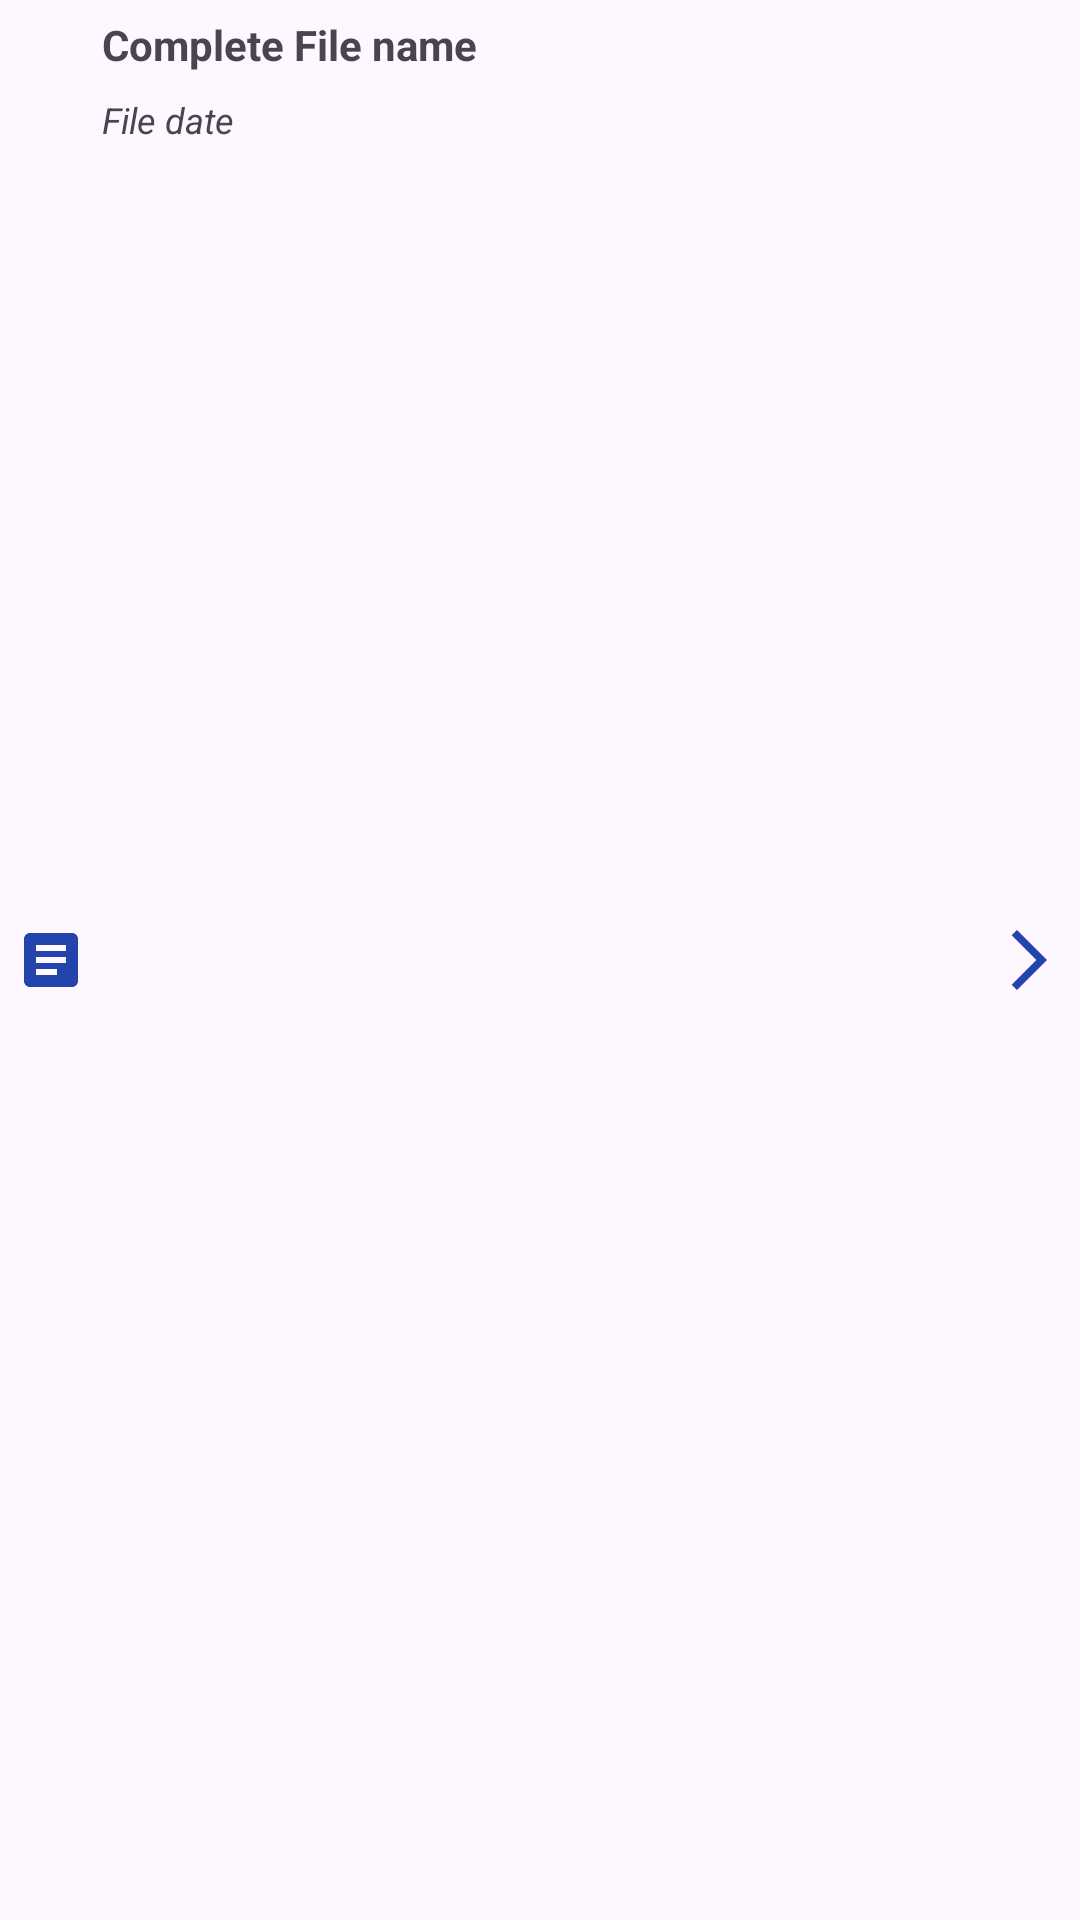

Locate icon controls on the screen. Image size 1080x1920, boxes as Rect(x1, y1, x2, y2).
arrow forward: Rect(1012, 930, 1047, 990)
article: Rect(24, 933, 78, 987)
